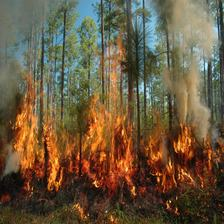fire: (5, 37, 215, 205)
